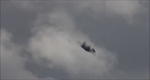maybay_muctieu: (77, 39, 97, 55)
